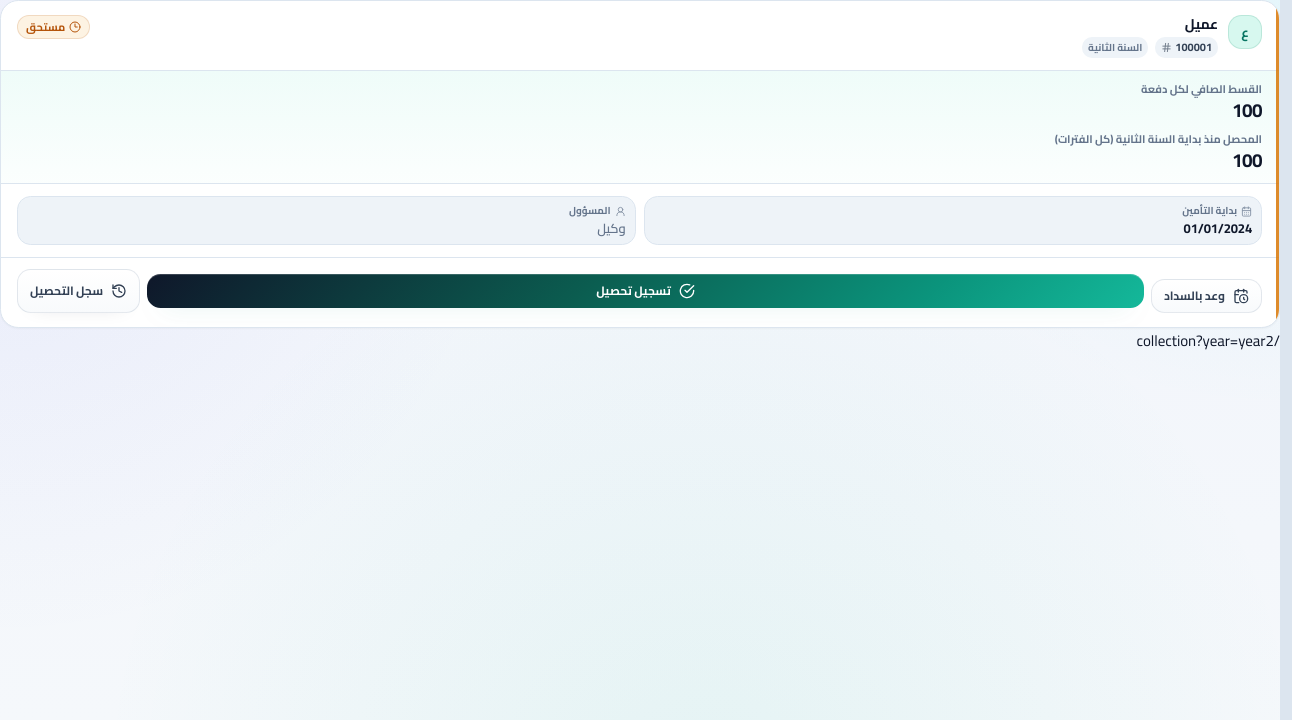
Test: offers the same فتح ملف العميل عميل destination from renewal collection
Click the link with aria-label "فتح ملف العميل عميل": click(1201, 24) top-left (1185, 11), bottom-right (1218, 37)
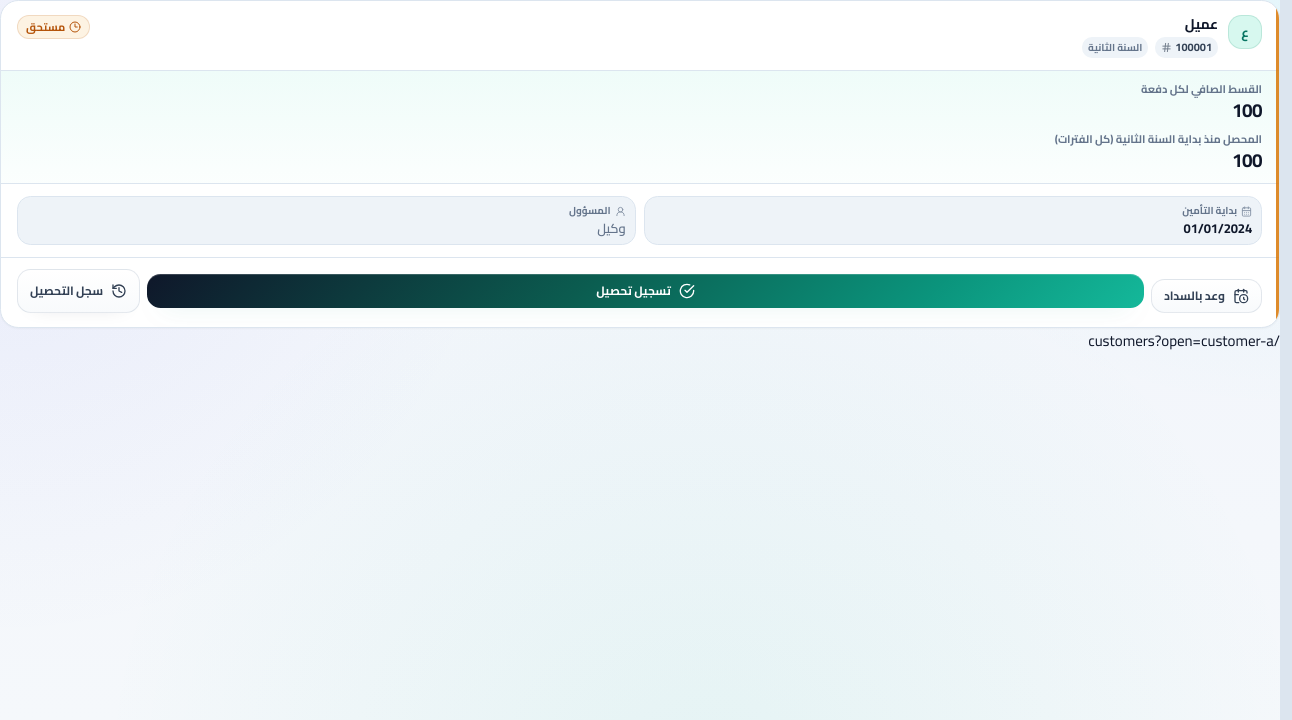
Expected: the text named "current route" reads "/customers?open=customer-a", top-left (1088, 326), bottom-right (1280, 355)
